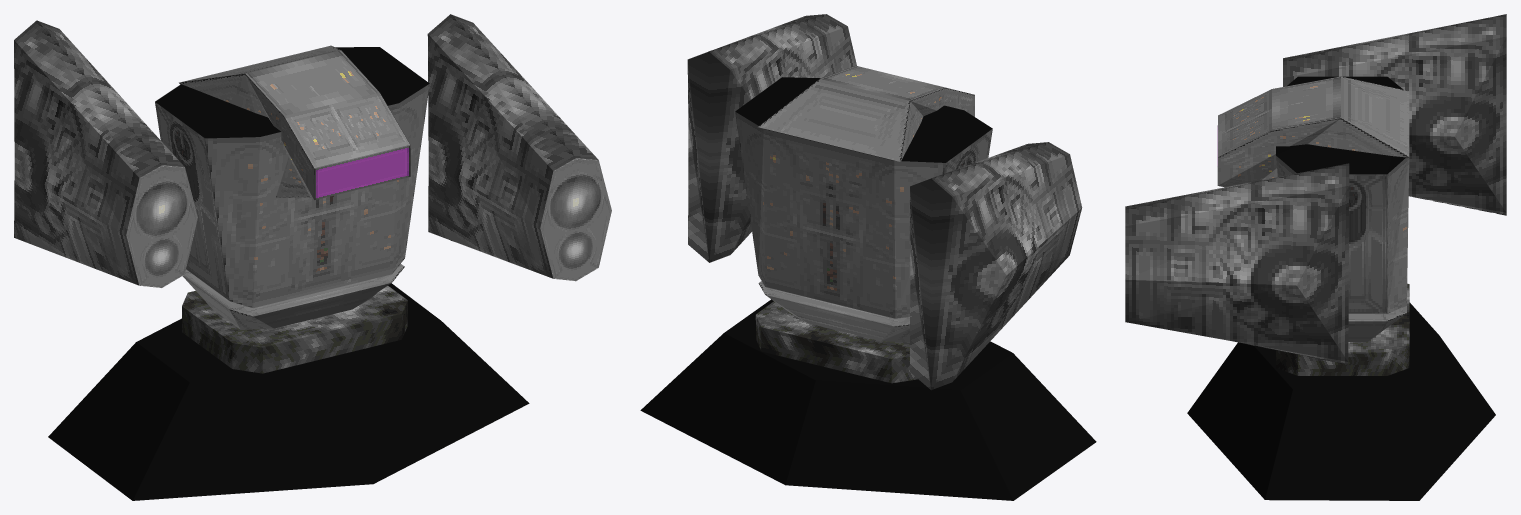
Rendered from alienbo2.obj.
3 views of the same model, side by side, from view 1: azimuth 30°, elevation 25°; view 2: azimuth 150°, elevation 25°; view 3: azimuth 270°, elevation 25° (orthographic). The views are drawn at different scales.
Size of the model in its own units: 18.88 by 15.64 by 16.35.
12 materials, 12 textured.
